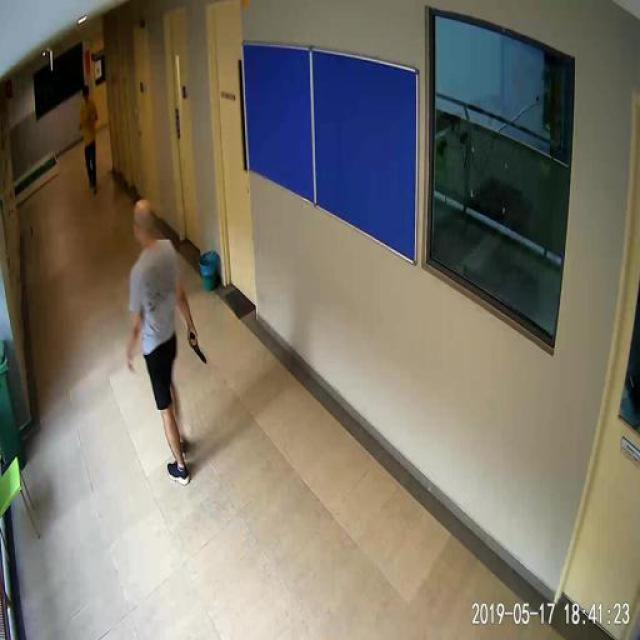weapon: (186, 333, 210, 366)
